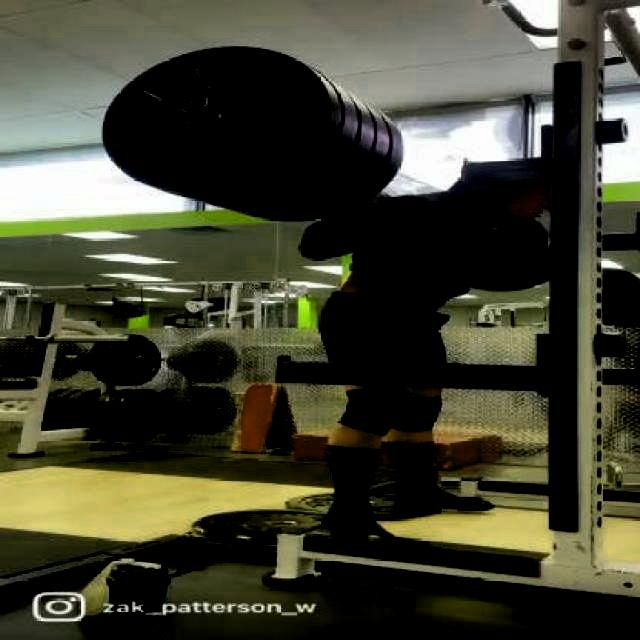barbell: (93, 40, 335, 202)
